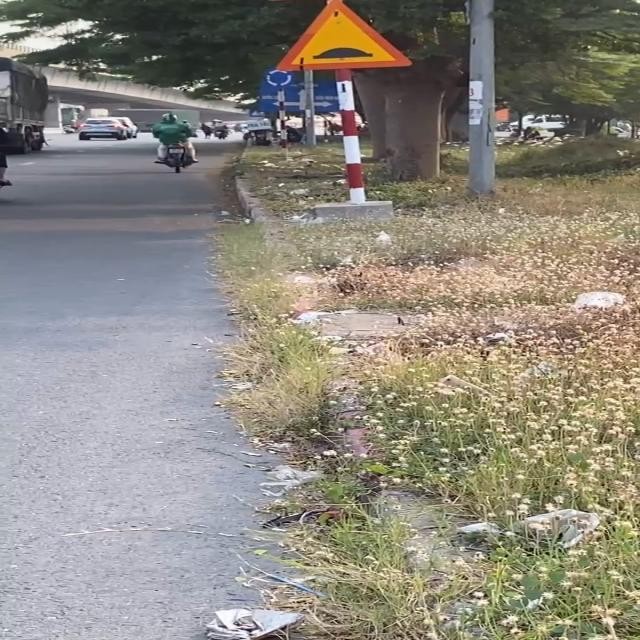221-duong-go-ghe: (275, 1, 413, 71)
303-noi-giao-nhau-chay-theo-vong-xuyen: (264, 68, 296, 88)
